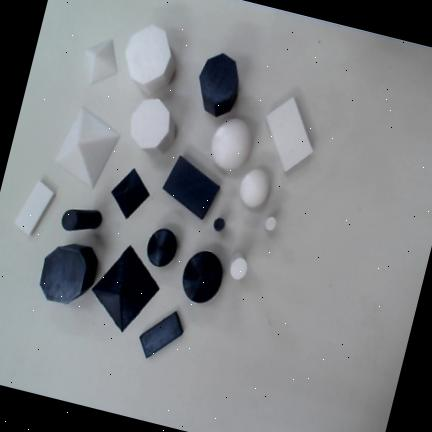Cilindro: (61, 209, 102, 231), (229, 251, 247, 280), (264, 216, 276, 231), (213, 217, 225, 231)
Esfera: (182, 250, 223, 304), (210, 118, 251, 170), (146, 228, 176, 267), (239, 169, 269, 208)
Paralelepipedo: (162, 155, 220, 220), (266, 97, 313, 172), (14, 181, 53, 236), (139, 311, 183, 358)
Piramide: (91, 245, 159, 332), (53, 106, 121, 190), (110, 167, 150, 219), (84, 40, 118, 84)
Prisma_hexagonal: (39, 243, 99, 304), (125, 24, 176, 95), (130, 98, 175, 157), (198, 53, 238, 117)
